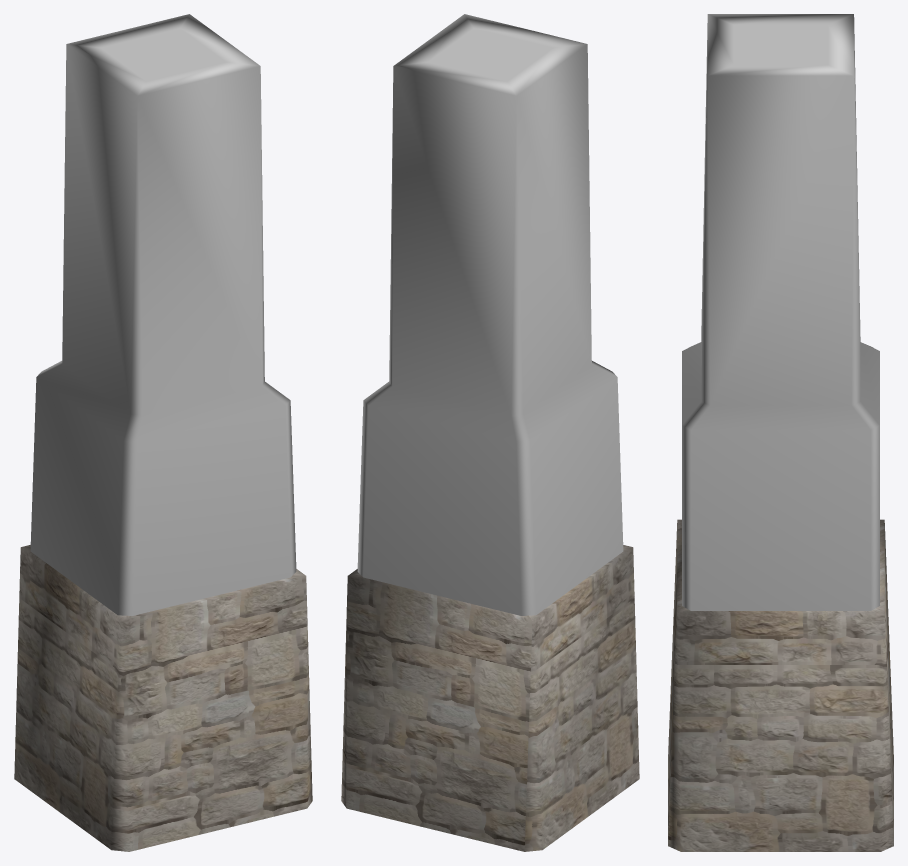
The model's file is ChimneyBase_1.fbx.
The picture shows the model from 3 angles, left to right: view 1: azimuth 30°, elevation 25°; view 2: azimuth 150°, elevation 25°; view 3: azimuth 270°, elevation 25°; orthographic projection. The views are drawn at different scales.
Parts seen in each view (by area): view 1: Mesh; view 2: Mesh; view 3: Mesh.
Part boxes in pixels (bbox=[...]): Mesh: bbox=[14, 14, 312, 851]; Mesh: bbox=[341, 14, 639, 851]; Mesh: bbox=[668, 14, 893, 851].
Bounding box in the file's own units: 274 × 957 × 259.
